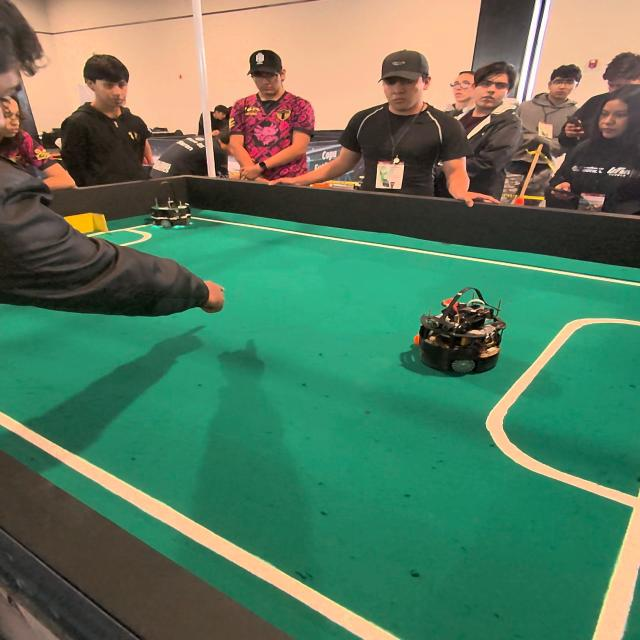Robot: (420, 286, 506, 382), (149, 178, 198, 236)
